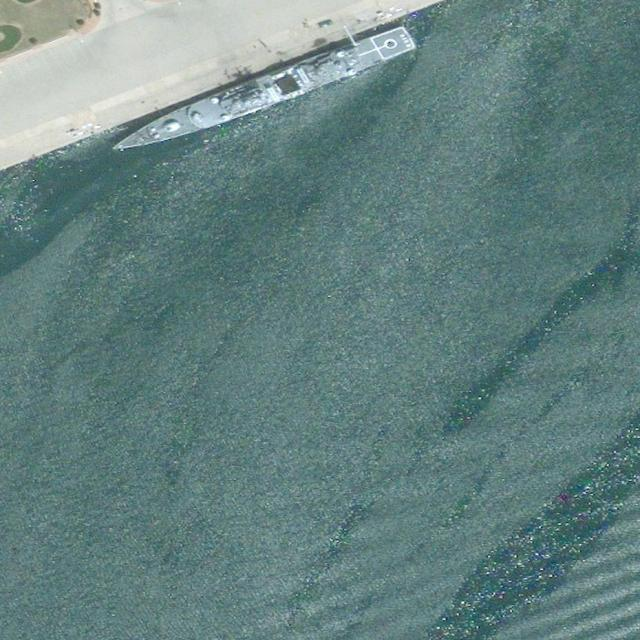Frigate: (107, 21, 416, 164)
